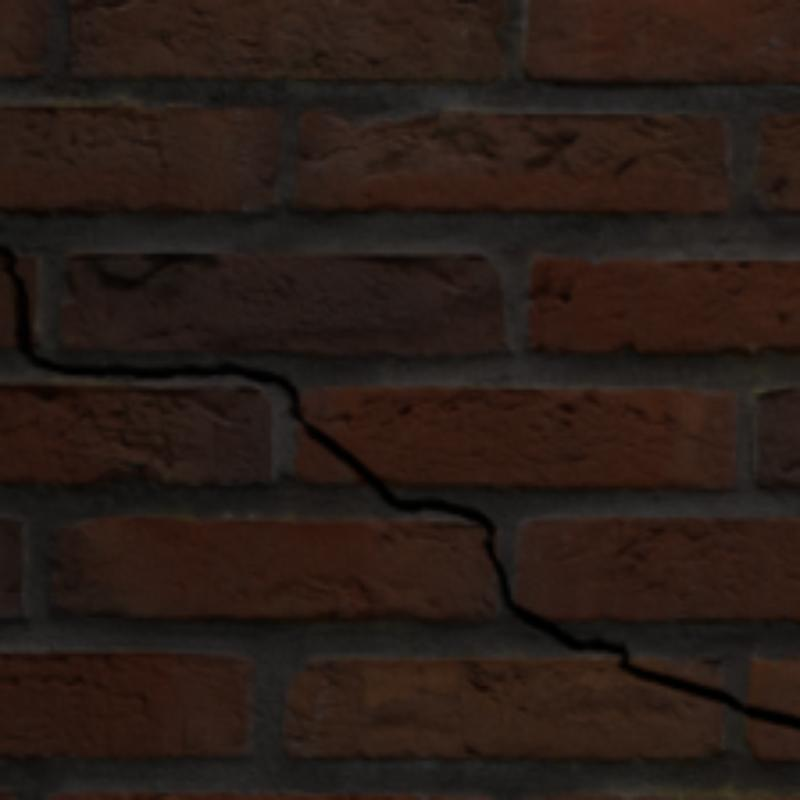pothole: (0, 246, 796, 725)
